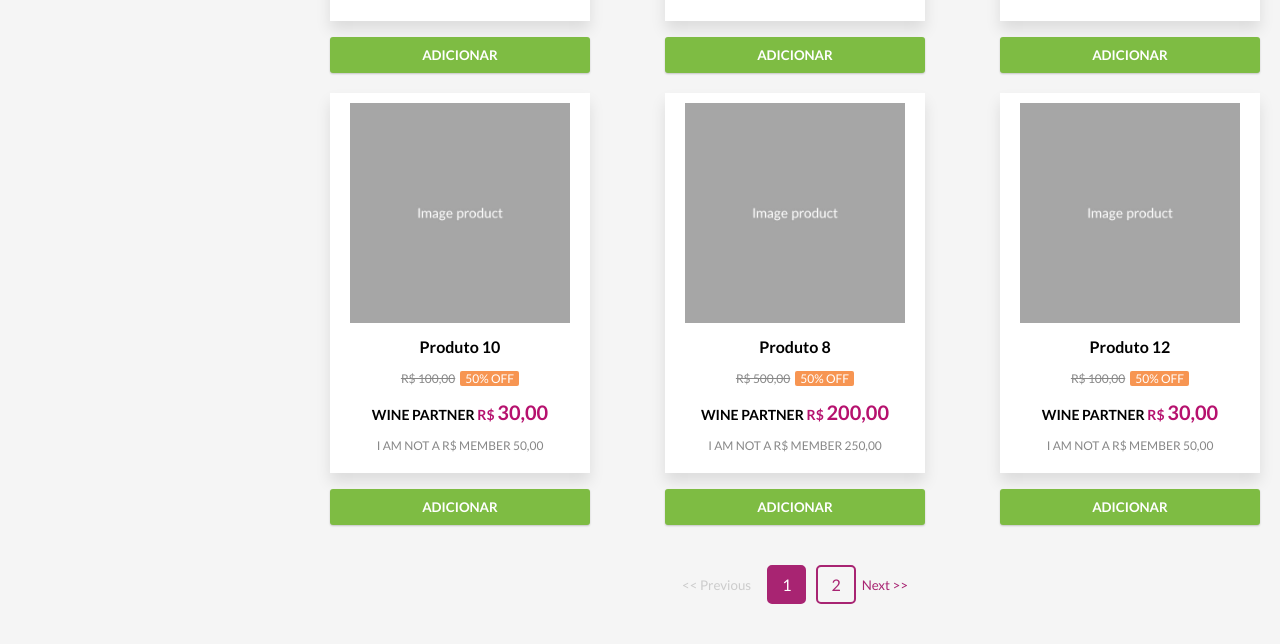
Test case: Browsing the store › Navigating between pages › On the last page, the next page button is disabled
(page scrolled)
Click the button with test id "home_page_navigate_btn-1" at (836, 585), box [816,565,855,604]
(page scrolled)
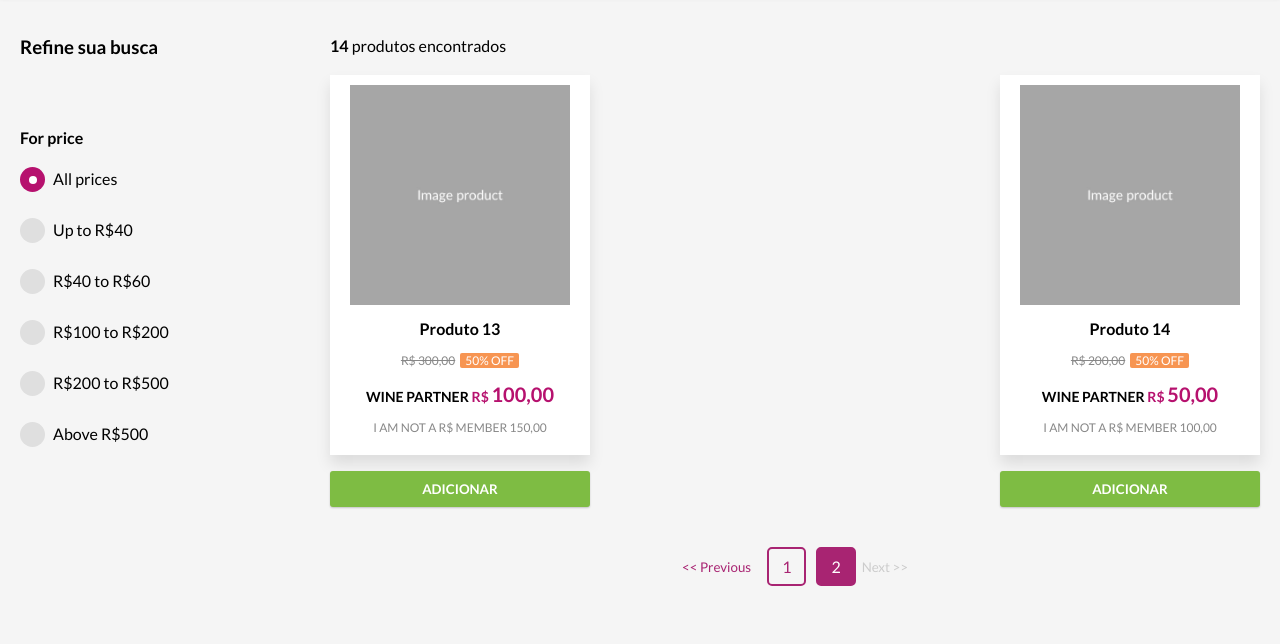
Expected: the element with test id "home_page_navigate_btn-previous" is enabled
Now the button with test id "home_page_navigate_btn-next" is disabled, box [856,547,914,586]
